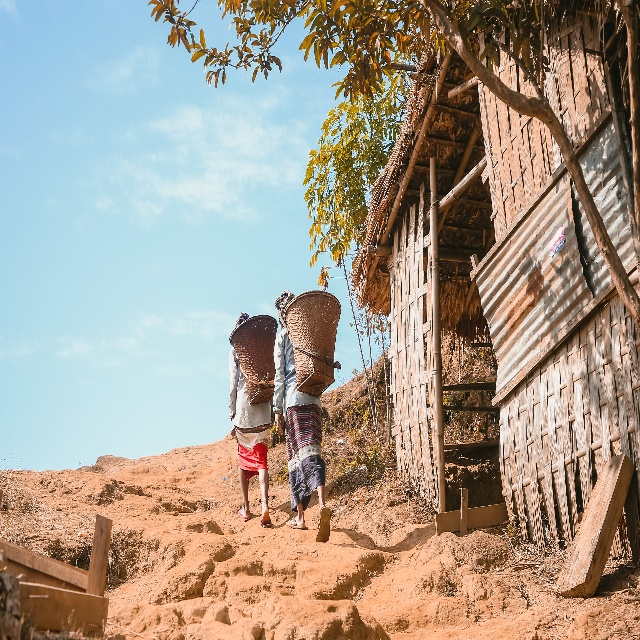Sin_guantes: (274, 412, 282, 438)
